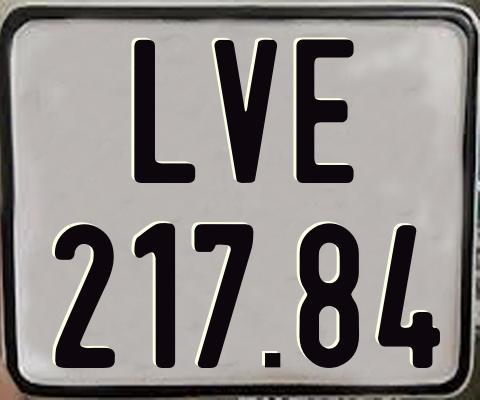1: (133, 223, 178, 374)
2: (53, 223, 114, 372)
4: (375, 225, 443, 370)
7: (192, 222, 257, 372)
8: (298, 221, 359, 366)
E: (296, 36, 354, 186)
L: (134, 38, 196, 182)
V: (214, 37, 281, 183)
